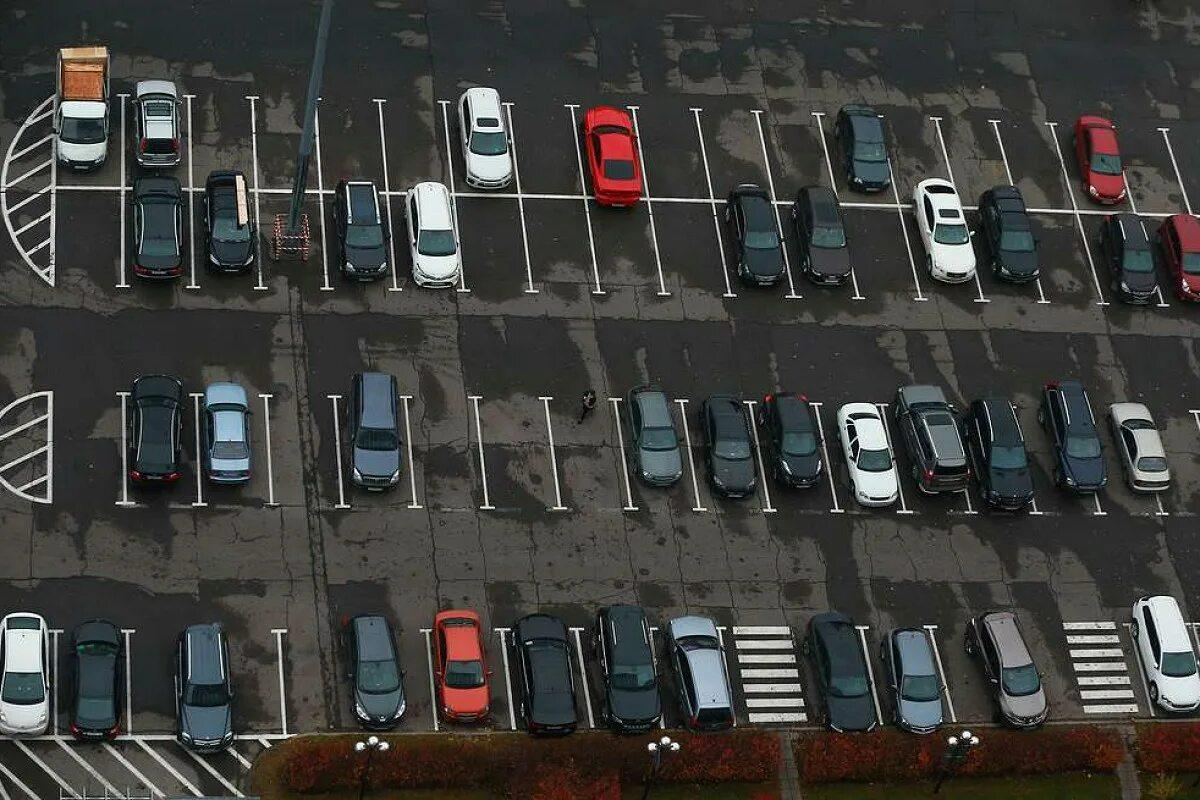occupied: (816, 404, 905, 512), (683, 401, 770, 511), (750, 402, 837, 511), (616, 399, 699, 509), (502, 629, 592, 728), (861, 627, 955, 721), (335, 397, 415, 507), (427, 629, 513, 730), (651, 628, 736, 727), (577, 630, 663, 727), (124, 394, 199, 504), (197, 395, 271, 505), (1077, 212, 1164, 305), (960, 207, 1044, 302), (56, 631, 130, 738), (776, 203, 859, 298), (900, 206, 983, 300), (713, 201, 794, 297), (1051, 124, 1135, 213), (819, 114, 899, 206), (388, 193, 463, 291), (572, 106, 649, 200), (321, 192, 395, 289), (444, 102, 520, 196), (123, 188, 193, 287), (191, 190, 261, 288), (52, 95, 123, 189), (123, 95, 190, 190)
vacant: (546, 399, 631, 509), (476, 397, 560, 508), (405, 397, 487, 507), (266, 396, 342, 506), (838, 204, 921, 299), (649, 199, 730, 295), (1021, 210, 1103, 303), (520, 196, 599, 292), (454, 195, 532, 291), (586, 198, 664, 294), (937, 119, 1020, 209), (995, 122, 1077, 213), (757, 112, 838, 204), (508, 104, 586, 198), (880, 117, 960, 208), (634, 108, 712, 201), (697, 110, 775, 203), (1111, 128, 1192, 215), (316, 98, 388, 194), (381, 100, 454, 194), (53, 188, 123, 286), (253, 98, 321, 191), (190, 96, 257, 190)
